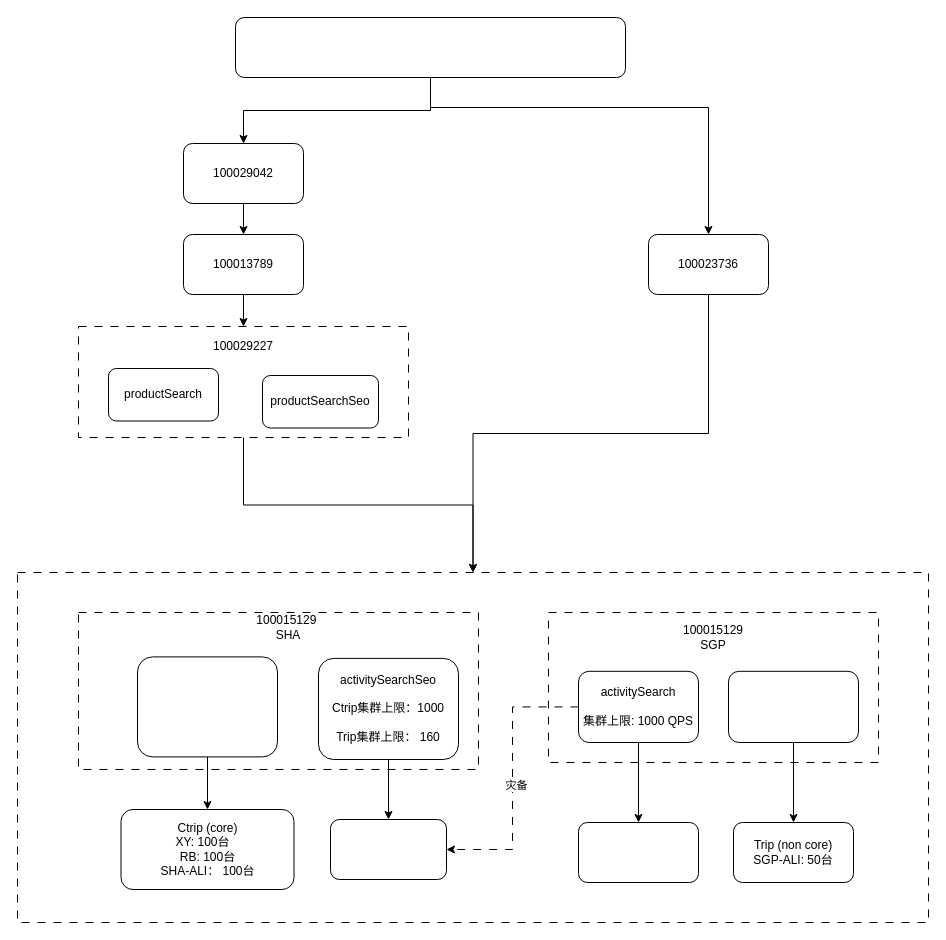
This 946x940 diagram has some shape labels left out. The box of each missing label's shape, as (x1, y1, x2, y2) in pixels:
activitySearch Ctrip集群上限：1000 Trip集群上限： 160: (136, 656, 278, 757)
activitySearchSeo 集群上限： 1000 QPS: (728, 670, 858, 742)
Trip (core) SGP-ALI: 50台: (578, 822, 698, 882)
Trip (core) SHA-ALI:30台: (330, 818, 446, 880)
攻略前端: (234, 16, 626, 78)
